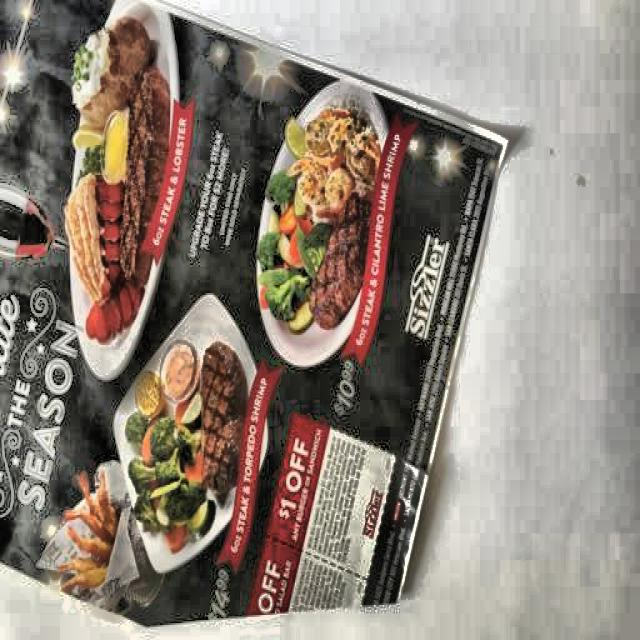paper: (0, 0, 511, 640)
